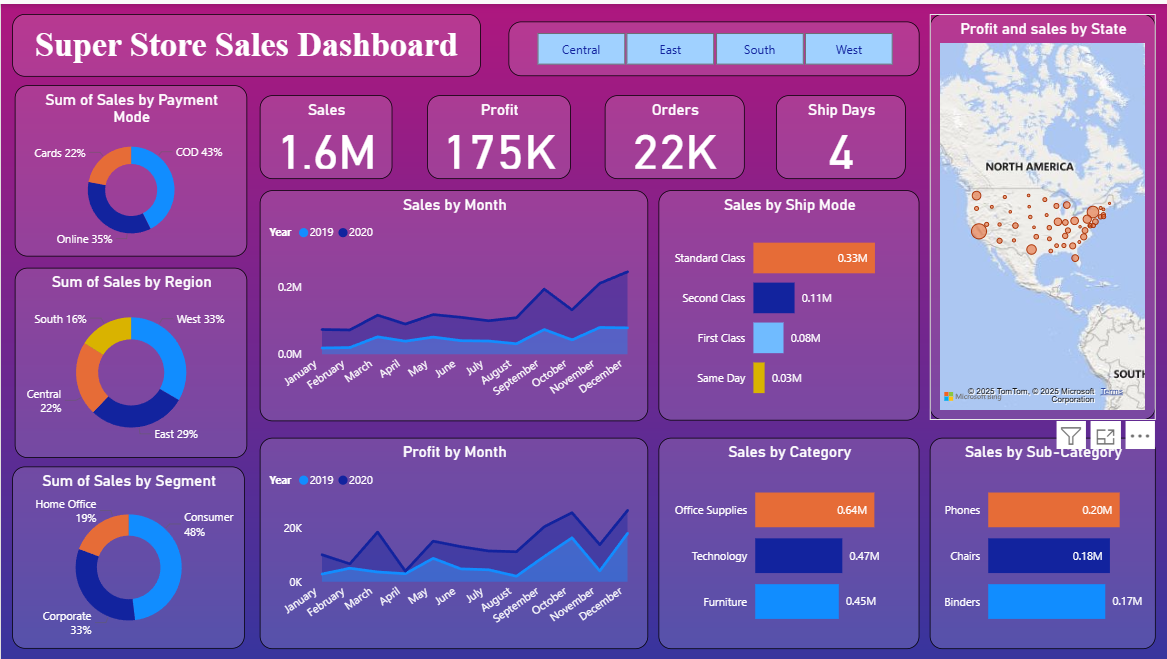

Layout of this report page (visuals, bound fields, positions):
{"tool":"powerbi","page":{"name":"Page 1","canvas":[1280,720],"ordinal":0},"visuals":[{"type":"clusteredBarChart","title":"Sales by Category","fields":{"Category":["SuperStore_Sales_Dataset.Category"],"Y":["Sum(SuperStore_Sales_Dataset.Sales)"]},"box":[721.8,476.2,286.8,231.9],"z":0},{"type":"clusteredBarChart","title":"Sales by Sub-Category","fields":{"Category":["SuperStore_Sales_Dataset.Sub-Category"],"Y":["Sum(SuperStore_Sales_Dataset.Sales)"]},"box":[1019.6,476.2,248.4,231.9],"z":1000},{"type":"clusteredBarChart","title":"Sales by Ship Mode","fields":{"Category":["SuperStore_Sales_Dataset.Ship Mode"],"Y":["Sum(SuperStore_Sales_Dataset.Sales)"]},"box":[721.8,204.5,286.8,252.5],"z":2000},{"type":"stackedAreaChart","title":"Sales by Month","fields":{"Y":["Sum(SuperStore_Sales_Dataset.Sales)"],"Category":["SuperStore_Sales_Dataset.Order Date.Variation.Date Hierarchy.Month","SuperStore_Sales_Dataset.Order Date.Variation.Date Hierarchy.Day"],"Series":["SuperStore_Sales_Dataset.Order Date.Variation.Date Hierarchy.Year"]},"box":[284,204.5,426.8,253.9],"z":3000},{"type":"stackedAreaChart","title":" Profit by Month","fields":{"Category":["SuperStore_Sales_Dataset.Order Date.Variation.Date Hierarchy.Month","SuperStore_Sales_Dataset.Order Date.Variation.Date Hierarchy.Day"],"Series":["SuperStore_Sales_Dataset.Order Date.Variation.Date Hierarchy.Year"],"Y":["Sum(SuperStore_Sales_Dataset.Profit)"]},"box":[284,476.2,426.8,231.9],"z":4000},{"type":"map","title":"Profit and sales by State","fields":{"Category":["SuperStore_Sales_Dataset.State"],"Size":["Sum(SuperStore_Sales_Dataset.Sales)"]},"box":[1019.6,11,248.4,446],"z":5000},{"type":"donutChart","fields":{"Category":["SuperStore_Sales_Dataset.Segment"],"Y":["Sum(SuperStore_Sales_Dataset.Sales)"]},"box":[12.3,507.7,255.2,200.3],"z":6000},{"type":"donutChart","fields":{"Category":["SuperStore_Sales_Dataset.Payment Mode"],"Y":["Sum(SuperStore_Sales_Dataset.Sales)"]},"box":[15.1,89.2,255.2,188],"z":7000},{"type":"slicer","fields":{"Values":["SuperStore_Sales_Dataset.Region"]},"box":[557.1,19.2,451.5,60.4],"z":8000},{"type":"card","title":"Sales","fields":{"Values":["Sum(SuperStore_Sales_Dataset.Sales)"]},"box":[284,100.2,145.5,91.9],"z":9000},{"type":"card","title":"Profit","fields":{"Values":["Sum(SuperStore_Sales_Dataset.Profit)"]},"box":[467.9,100.2,157.8,91.9],"z":10000},{"type":"card","title":"Orders","fields":{"Values":["Sum(SuperStore_Sales_Dataset.Quantity)"]},"box":[662.8,100.2,153.7,91.9],"z":11000},{"type":"card","title":"Ship Days","fields":{"Values":["Avg(SuperStore_Sales_Dataset.Avg_Delivary)"]},"box":[850.8,100.2,142.7,91.9],"z":12000},{"type":"donutChart","fields":{"Category":["SuperStore_Sales_Dataset.Region"],"Y":["Sum(SuperStore_Sales_Dataset.Sales)"]},"box":[15.1,289.5,255.2,208.6],"z":13000},{"type":"textbox","box":[12.3,11,514.6,68.6],"z":14000}]}

Visuals, with their boxes in screenshot pixels (x1, y1, x2, y2), scaled from the page's 1280x720 canvas onto the 1167x659 screenshot:
"Sales by Category" clusteredBarChart: 658:436:920:648
"Sales by Sub-Category" clusteredBarChart: 930:436:1156:648
"Sales by Ship Mode" clusteredBarChart: 658:187:920:418
"Sales by Month" stackedAreaChart: 259:187:648:420
" Profit by Month" stackedAreaChart: 259:436:648:648
"Profit and sales by State" map: 930:10:1156:418
donutChart - SuperStore_Sales_Dataset.Segment x Sum(SuperStore_Sales_Dataset.Sales): 11:465:244:648
donutChart - SuperStore_Sales_Dataset.Payment Mode x Sum(SuperStore_Sales_Dataset.Sales): 14:82:246:254
slicer - SuperStore_Sales_Dataset.Region: 508:18:920:73
"Sales" card: 259:92:392:176
"Profit" card: 427:92:570:176
"Orders" card: 604:92:744:176
"Ship Days" card: 776:92:906:176
donutChart - SuperStore_Sales_Dataset.Region x Sum(SuperStore_Sales_Dataset.Sales): 14:265:246:456
textbox: 11:10:480:73
